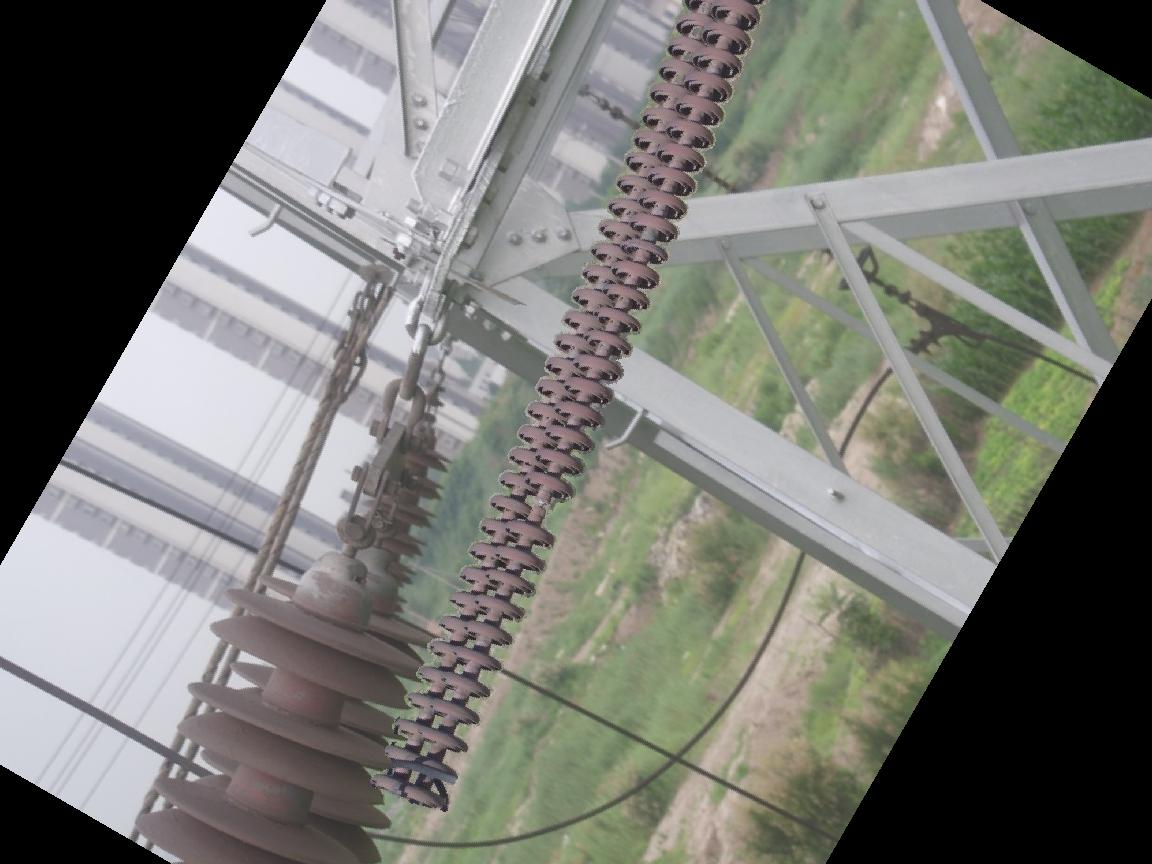insulator: (373, 1, 775, 813), (131, 578, 431, 864)
insulator_stringdrop: (500, 468, 576, 547)
